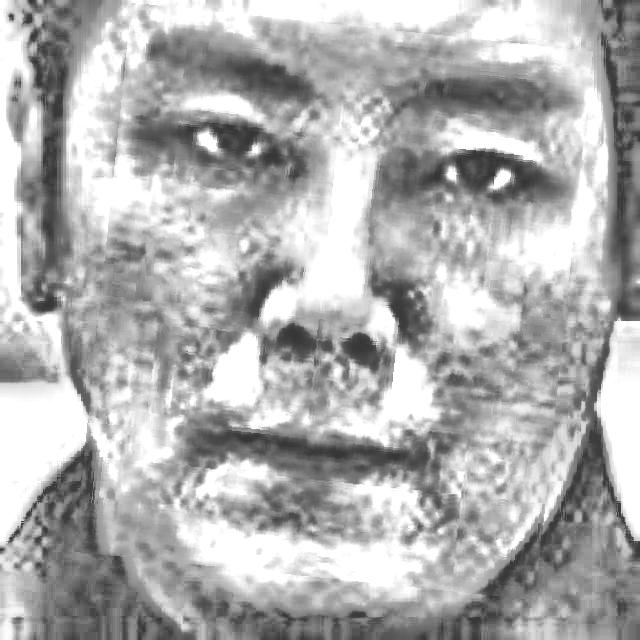angry: (88, 15, 580, 589)
